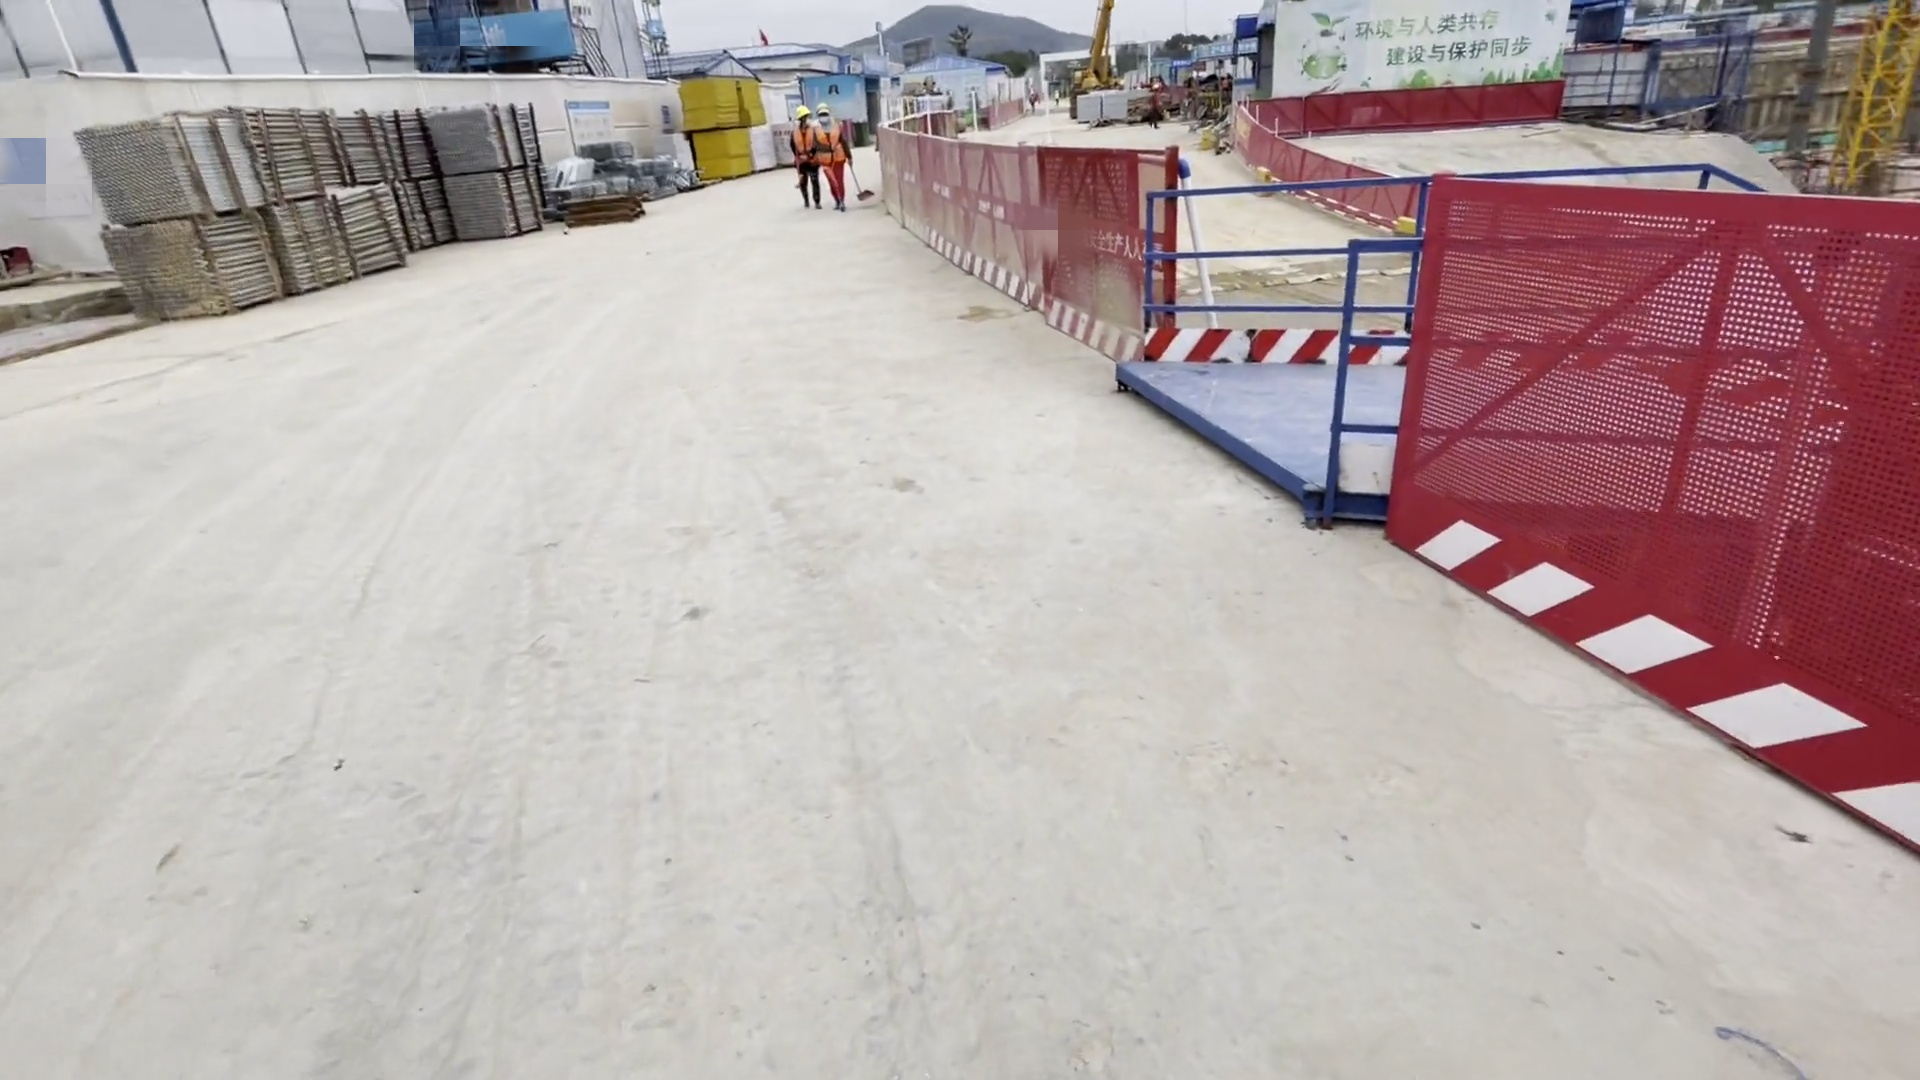fence: (1395, 177, 1915, 901), (865, 129, 1173, 364)
helmet: (786, 99, 812, 120), (804, 101, 828, 122)
person: (778, 94, 854, 222)
scaffold: (71, 98, 554, 322)
vest: (810, 118, 845, 162), (791, 122, 821, 168)
